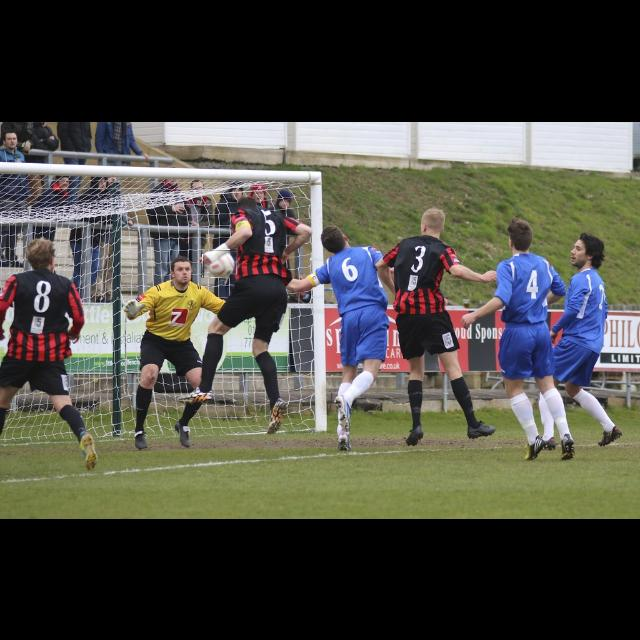Football: (203, 250, 237, 278)
